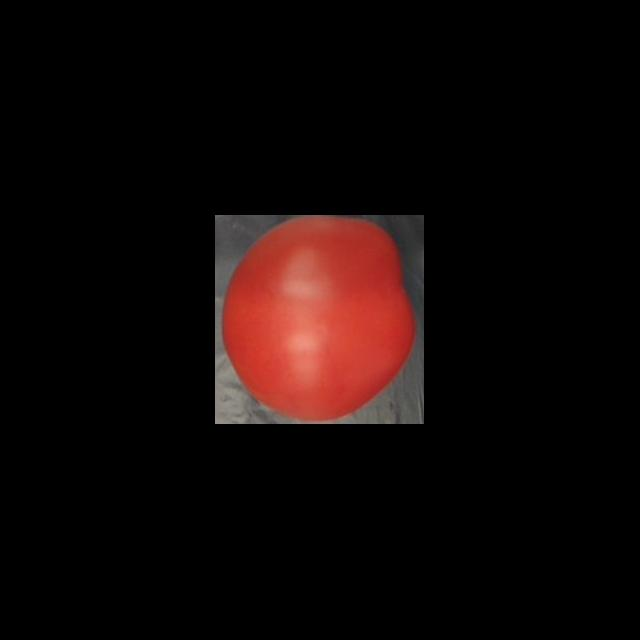tomato: (220, 217, 419, 424)
